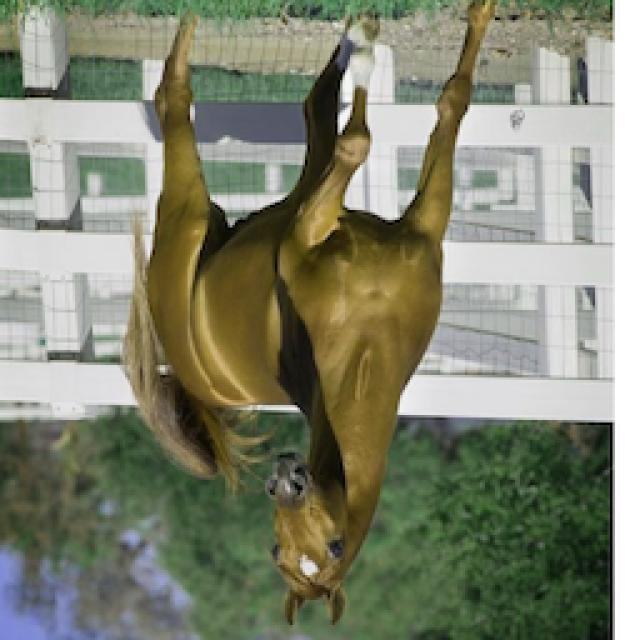Horse: (112, 2, 510, 632)
